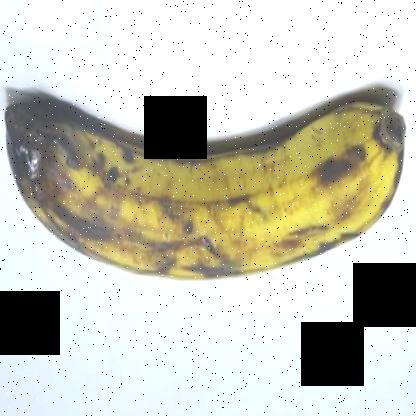overripe: (1, 74, 412, 290)
